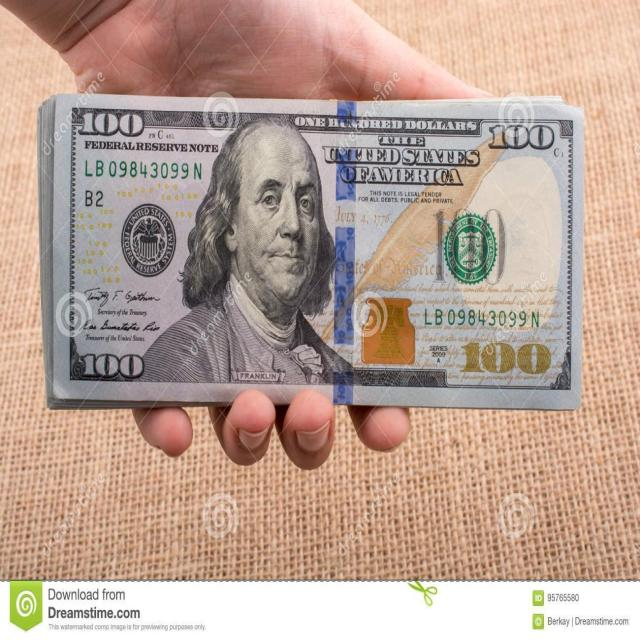100-Front: (49, 102, 579, 409)
